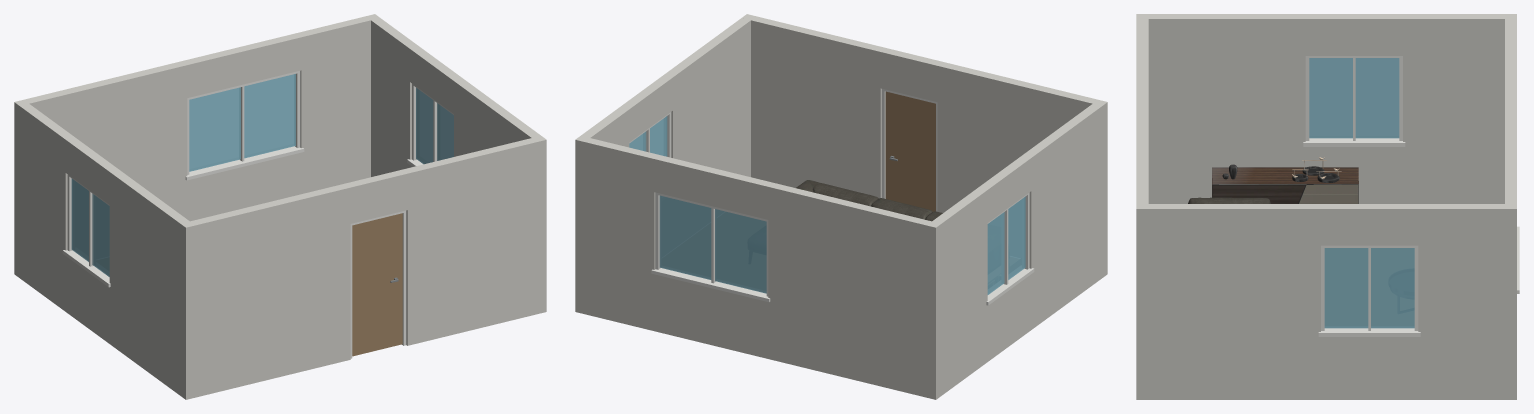
The model's file is atiss.glb.
3 views of the same model, side by side, from view 1: azimuth 30°, elevation 25°; view 2: azimuth 150°, elevation 25°; view 3: azimuth 270°, elevation 25° (orthographic). The views are drawn at different scales.
Visible parts, largest first — view 1: wall|scenesmith_010__R00|0, wall|scenesmith_010__R00|1, wall|scenesmith_010__R00|2, wall|scenesmith_010__R00|3, wall|scenesmith_010__R00|1 Window 0 | glazing, wall|scenesmith_010__R00|0 Door 0 | wood leaf, wall|scenesmith_010__R00|2 Window 0 | glazing, wall|scenesmith_010__R00|1 Window 0 | jamb, wall|scenesmith_010__R00|3 Window 0 | glazing, wall|scenesmith_010__R00|2 Window 0 | jamb, wall|scenesmith_010__R00|0 Door 0 | jamb, wall|scenesmith_010__R00|3 Window 0 | jamb; view 2: wall|scenesmith_010__R00|1, wall|scenesmith_010__R00|0, wall|scenesmith_010__R00|2, wall|scenesmith_010__R00|3, wall|scenesmith_010__R00|1 Window 0 | glazing, wall|scenesmith_010__R00|0 Door 0 | wood leaf, wall|scenesmith_010__R00|2 Window 0 | glazing, wall|scenesmith_010__R00|1 Window 0 | jamb, raw_model, wall|scenesmith_010__R00|2 Window 0 | jamb, wall|scenesmith_010__R00|3 Window 0 | glazing, wall|scenesmith_010__R00|0 Door 0 | jamb; view 3: wall|scenesmith_010__R00|3, wall|scenesmith_010__R00|2, wall|scenesmith_010__R00|2 Window 0 | glazing, wall|scenesmith_010__R00|3 Window 0 | glazing, raw_model.001, wall|scenesmith_010__R00|0, wall|scenesmith_010__R00|1, wall|scenesmith_010__R00|3 Window 0 | jamb, wall|scenesmith_010__R00|2 Window 0 | jamb, raw_model.
Boxes of the visible parts, <box> form: wall|scenesmith_010__R00|0: <box>180,136,546,399</box>; wall|scenesmith_010__R00|1: <box>14,14,379,277</box>; wall|scenesmith_010__R00|2: <box>18,100,195,399</box>; wall|scenesmith_010__R00|3: <box>370,14,546,313</box>; wall|scenesmith_010__R00|1 Window 0 | glazing: <box>189,74,295,171</box>; wall|scenesmith_010__R00|0 Door 0 | wood leaf: <box>352,213,402,356</box>; wall|scenesmith_010__R00|2 Window 0 | glazing: <box>71,178,109,276</box>; wall|scenesmith_010__R00|1 Window 0 | jamb: <box>185,71,304,180</box>; wall|scenesmith_010__R00|3 Window 0 | glazing: <box>416,88,453,164</box>; wall|scenesmith_010__R00|2 Window 0 | jamb: <box>62,174,110,287</box>; wall|scenesmith_010__R00|0 Door 0 | jamb: <box>350,210,406,358</box>; wall|scenesmith_010__R00|3 Window 0 | jamb: <box>407,83,453,166</box>; wall|scenesmith_010__R00|1: <box>584,138,941,399</box>; wall|scenesmith_010__R00|0: <box>742,14,1107,277</box>; wall|scenesmith_010__R00|2: <box>926,104,1102,399</box>; wall|scenesmith_010__R00|3: <box>575,18,750,313</box>; wall|scenesmith_010__R00|1 Window 0 | glazing: <box>659,195,766,293</box>; wall|scenesmith_010__R00|0 Door 0 | wood leaf: <box>885,91,935,211</box>; wall|scenesmith_010__R00|2 Window 0 | glazing: <box>987,196,1025,294</box>; wall|scenesmith_010__R00|1 Window 0 | jamb: <box>651,192,770,301</box>; raw_model: <box>796,180,942,221</box>; wall|scenesmith_010__R00|2 Window 0 | jamb: <box>986,192,1034,305</box>; wall|scenesmith_010__R00|3 Window 0 | glazing: <box>629,116,667,156</box>; wall|scenesmith_010__R00|0 Door 0 | jamb: <box>882,89,937,211</box>; wall|scenesmith_010__R00|3: <box>1148,204,1516,399</box>; wall|scenesmith_010__R00|2: <box>1148,14,1515,203</box>; wall|scenesmith_010__R00|2 Window 0 | glazing: <box>1309,58,1399,138</box>; wall|scenesmith_010__R00|3 Window 0 | glazing: <box>1324,248,1414,328</box>; raw_model.001: <box>1212,157,1358,203</box>; wall|scenesmith_010__R00|0: <box>1136,14,1148,399</box>; wall|scenesmith_010__R00|1: <box>1505,14,1516,399</box>; wall|scenesmith_010__R00|3 Window 0 | jamb: <box>1318,245,1420,336</box>; wall|scenesmith_010__R00|2 Window 0 | jamb: <box>1303,56,1405,146</box>; raw_model: <box>1188,197,1270,203</box>.
Size of the model in its own units: 5.76 by 2.62 by 4.73.
9 materials, 3 textured.
